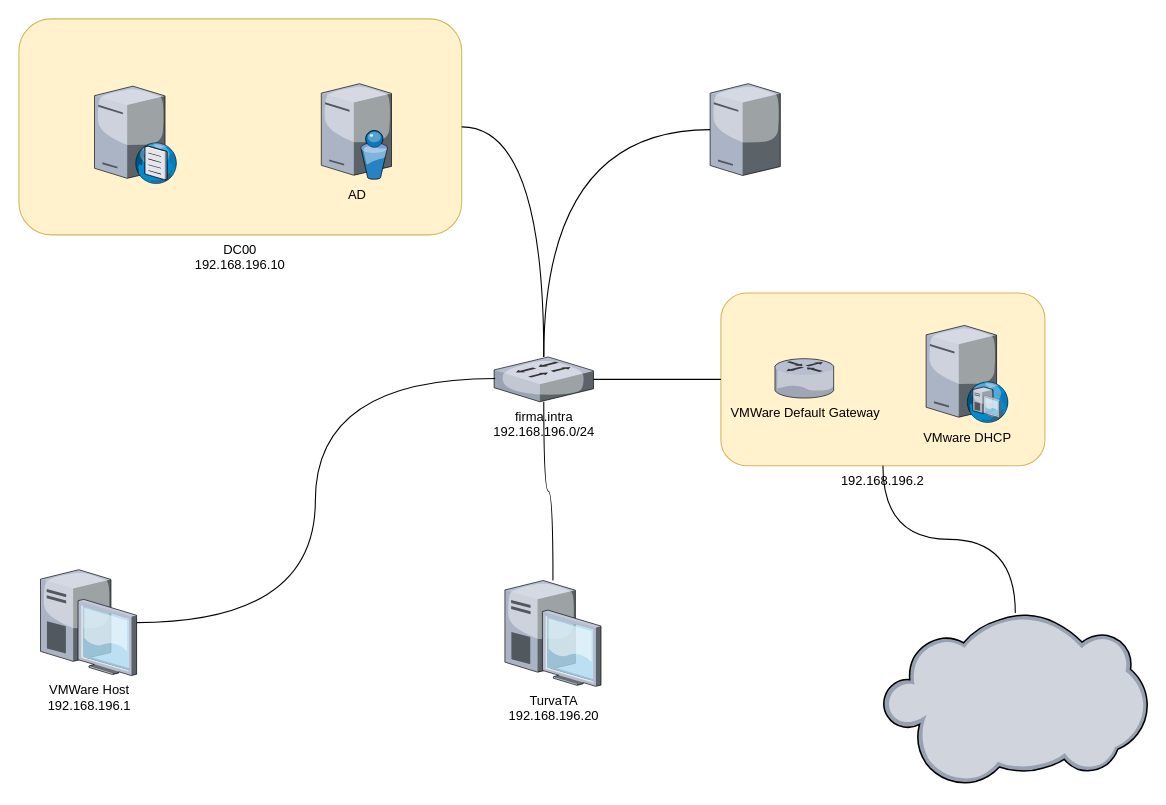
The diagram is 1166 pixels wide and 805 high, and some of its shapes have lost their labels. Here are the shapes that lost their labels. From the top down, the centre of each, then its label:
At point 135,133: "DNS".
At point 745,129: "FileSRV1 192.168.196.30".
At point 1014,698: "Interweb".
